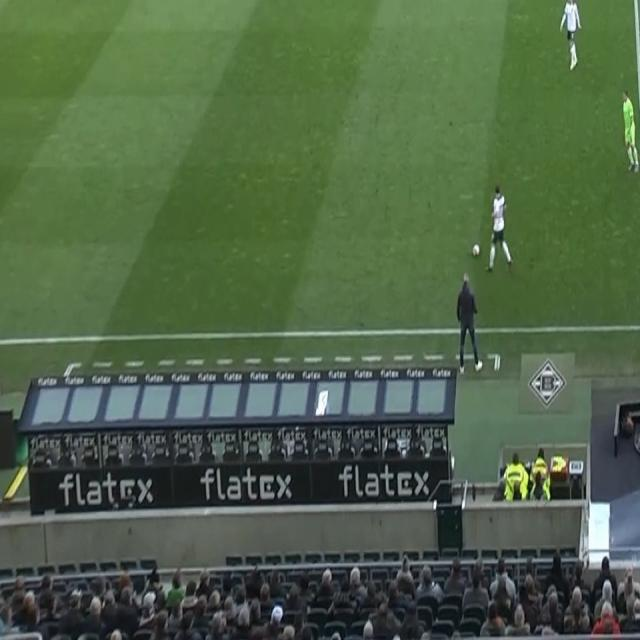ball: (472, 242, 481, 258)
